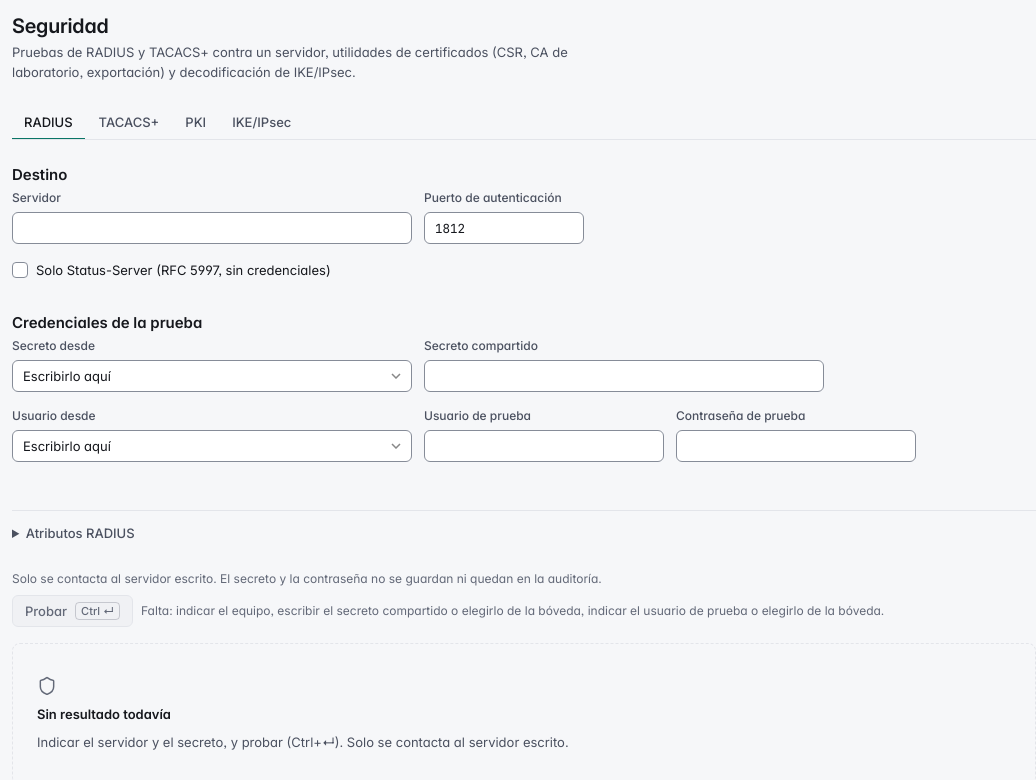
Test: tacacs autoriza show running-config por defecto
Click the tab "TACACS+" at (129, 123), box [87,106,171,140]
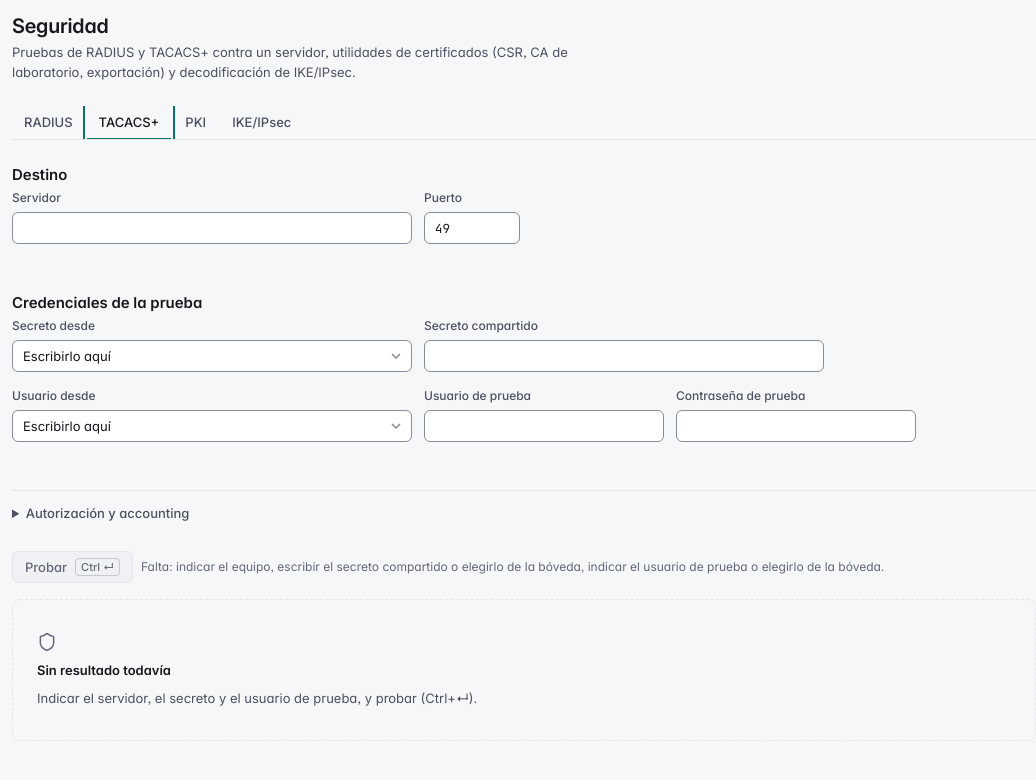
Type "10.0.0.21" into the field labelled "Servidor" at (212, 228), box [12,212,412,244]
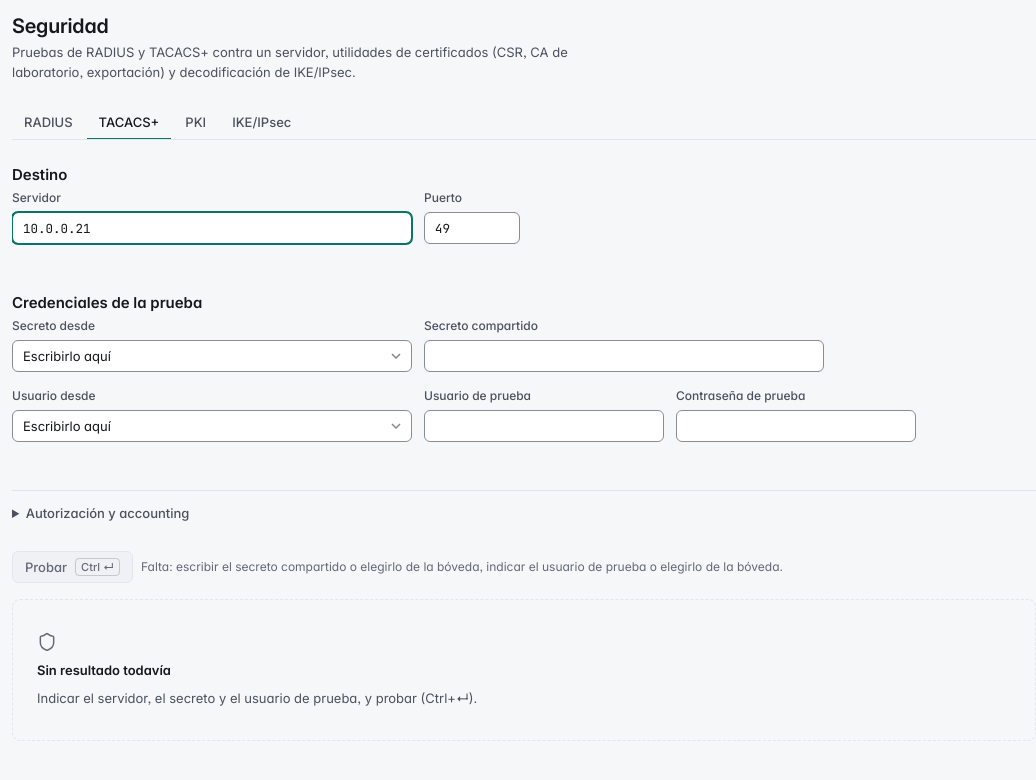
Type "tk" into the password field labelled "Secreto compartido" at (624, 356), box [424,340,824,372]
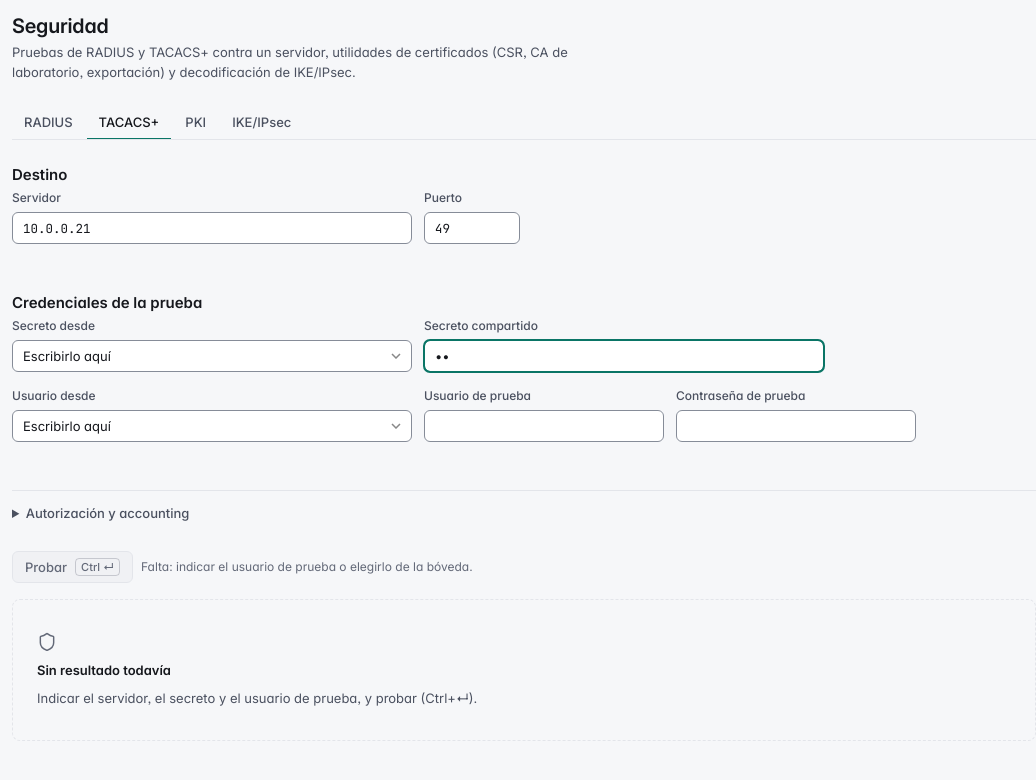
Type "admin" into the field labelled "Usuario de prueba" at (544, 426), box [424,410,664,442]
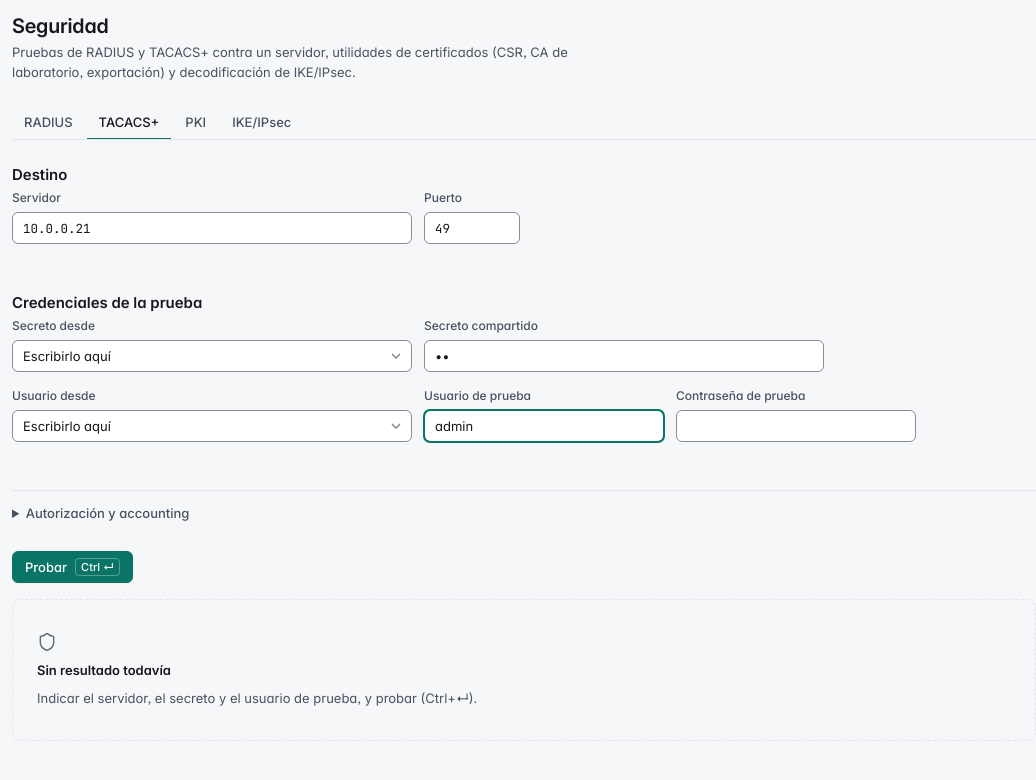
Type "pw" into the password field labelled "Contraseña de prueba" at (796, 426), box [676,410,916,442]
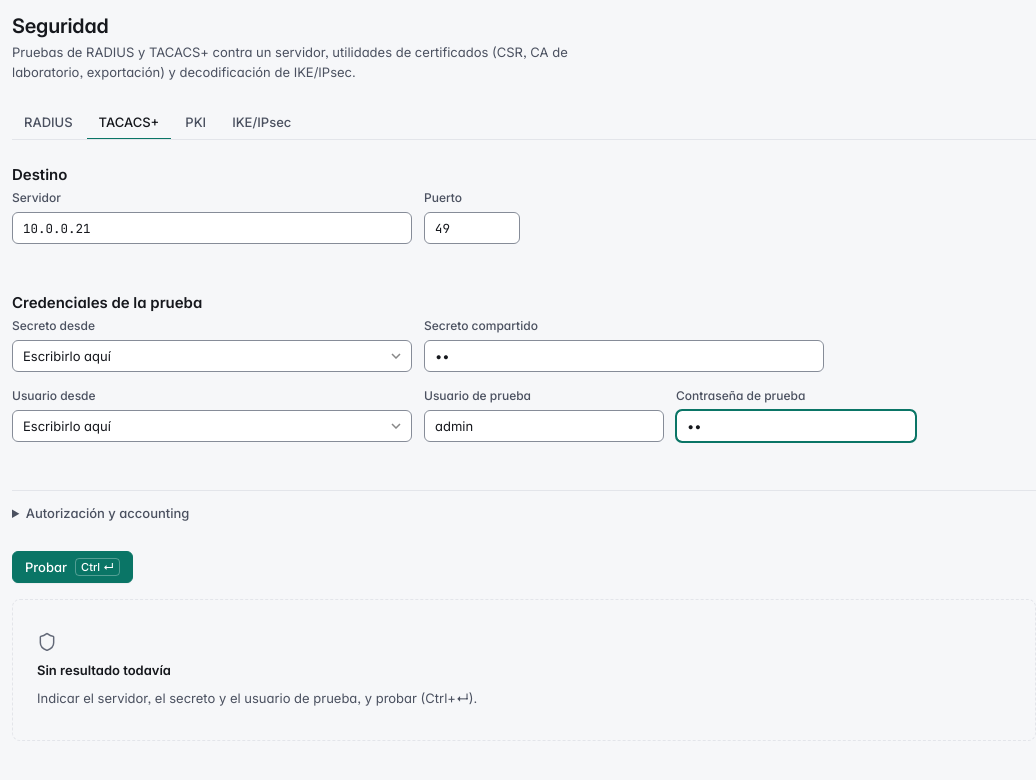
Click the button "Probar Ctrl ↵" at (72, 567), box [12,551,133,583]
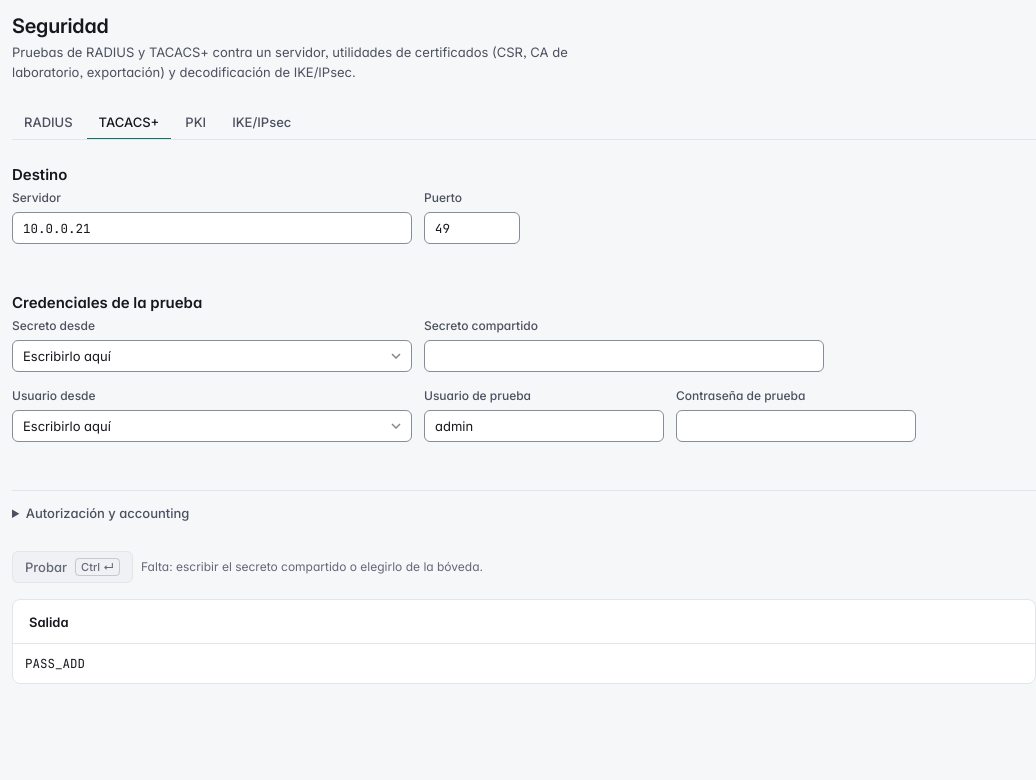
Result: the text "PASS_ADD" is shown at [25,655,85,672]
